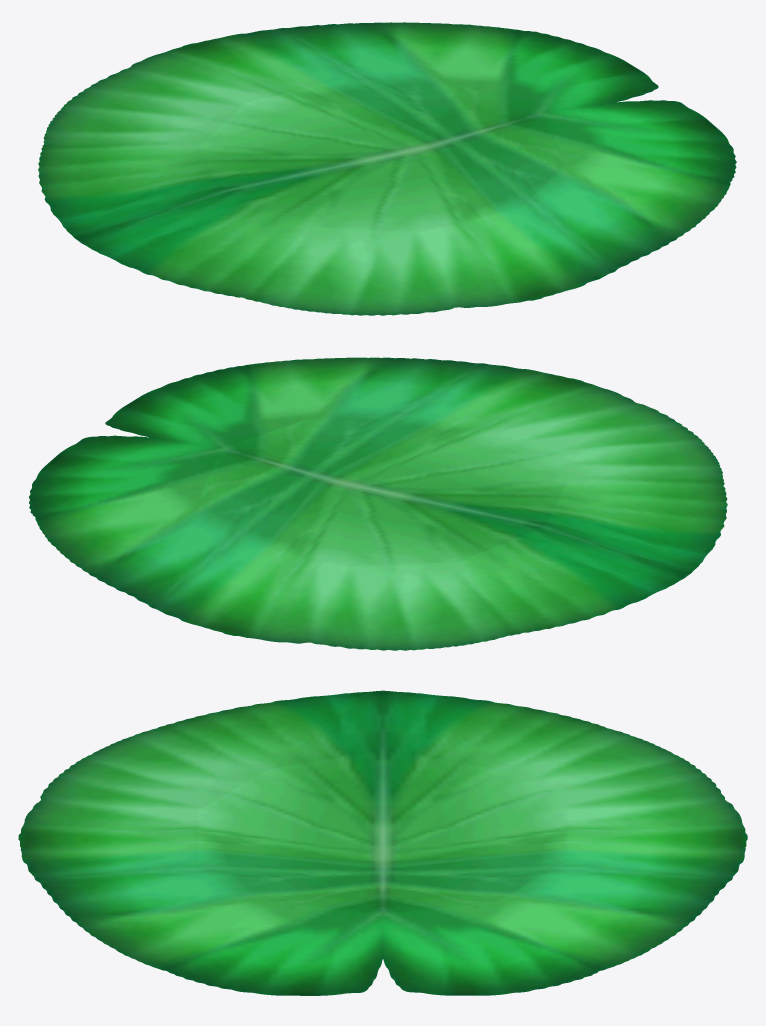
The model's file is leafboat.dae.
3 views of the same model, one above another, from view 1: azimuth 30°, elevation 25°; view 2: azimuth 150°, elevation 25°; view 3: azimuth 270°, elevation 25° (orthographic). The views are drawn at different scales.
Parts seen in each view (by area): view 1: m0; view 2: m0; view 3: m0.
Part boxes in pixels (box(x1,y1,x2,y2)): m0: box(38, 22, 736, 315); m0: box(29, 357, 727, 650); m0: box(18, 690, 747, 995).
Size of the model in its own units: 529 by 11.83 by 503.
1 material, 1 textured.
